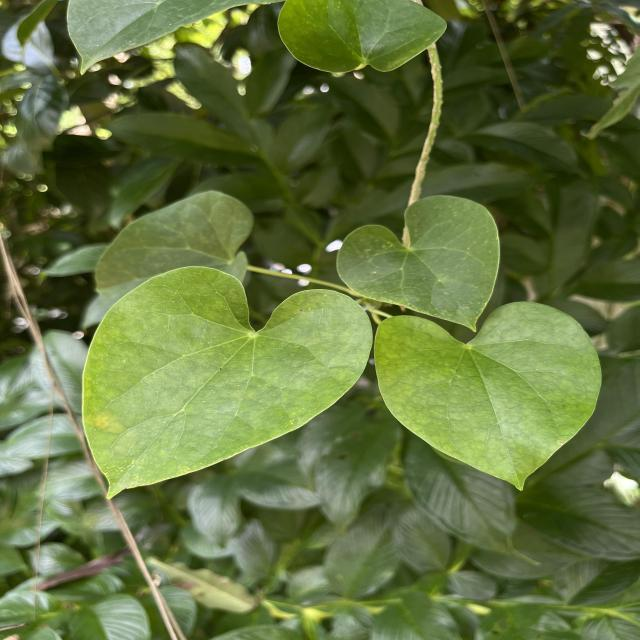Tinospora cordifolia: (79, 262, 375, 502), (373, 298, 604, 493), (334, 192, 504, 334)
